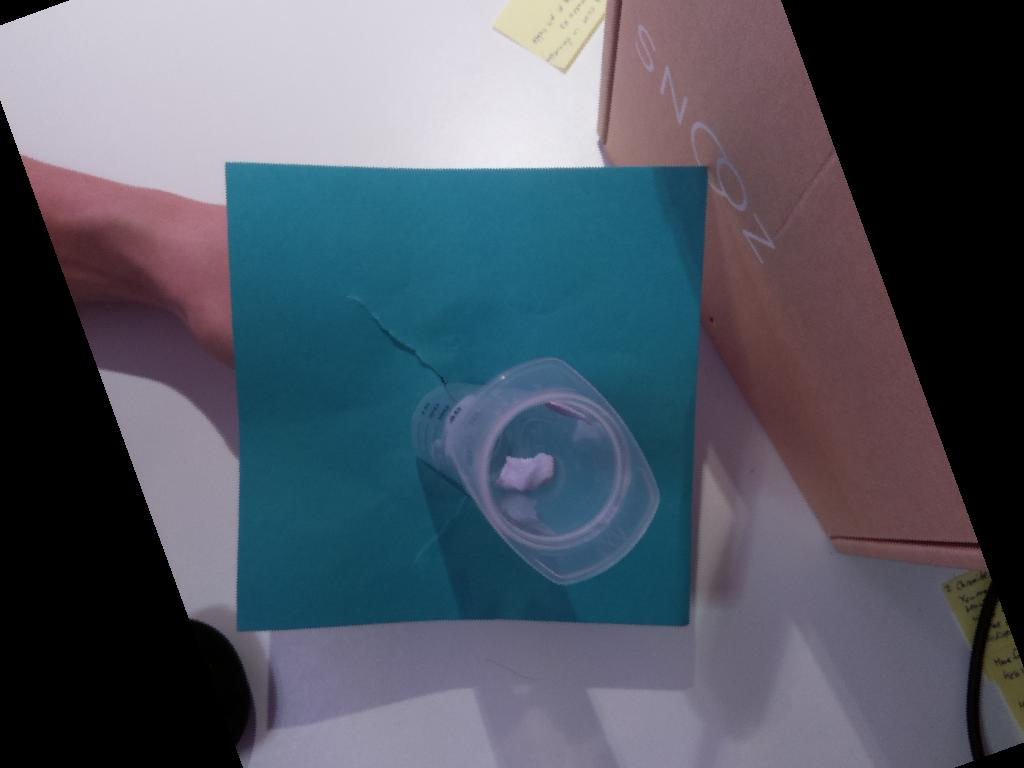dirty: (443, 356, 660, 585)
